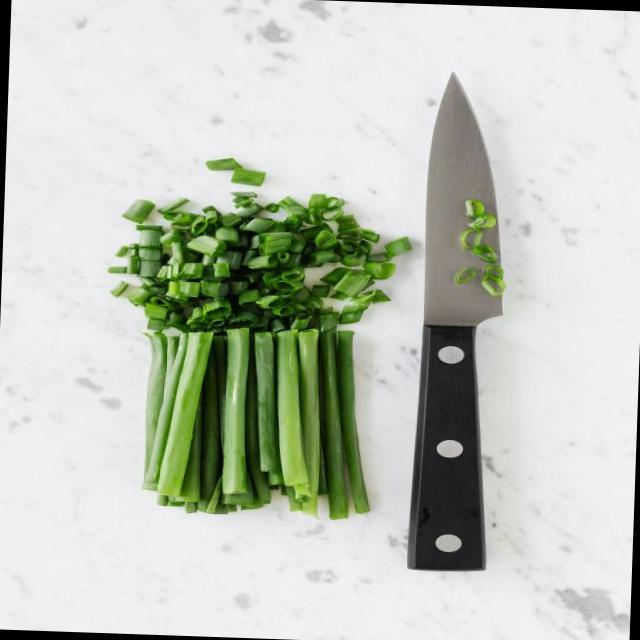Knife: (407, 72, 506, 567)
